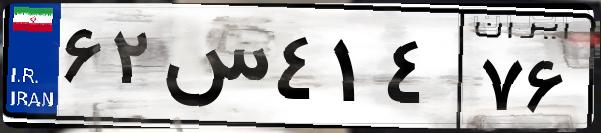1: (330, 28, 385, 110)
2: (110, 28, 158, 98)
4: (270, 28, 330, 110), (385, 28, 445, 110)
6: (57, 26, 110, 100), (525, 38, 570, 115)
7: (475, 38, 525, 113)
س: (158, 20, 270, 120)
